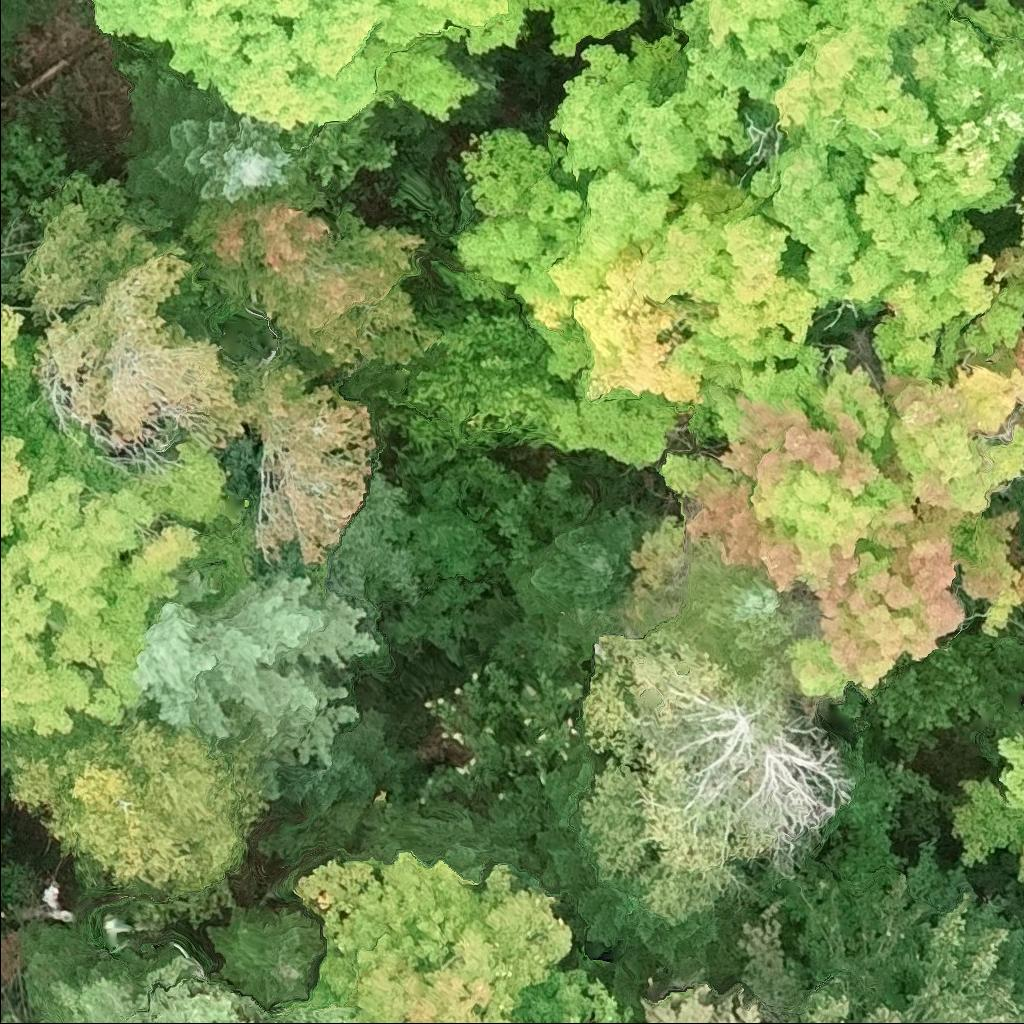crown: (433, 31, 819, 475), (622, 340, 1023, 701), (0, 296, 259, 741), (10, 177, 249, 456), (580, 629, 794, 921), (513, 738, 762, 987), (130, 559, 381, 805), (277, 854, 636, 1023), (0, 701, 273, 906), (86, 0, 483, 134), (769, 819, 1023, 1023), (186, 192, 431, 376), (118, 69, 336, 226), (236, 359, 380, 562), (675, 692, 855, 851), (634, 900, 861, 1023), (508, 502, 659, 667), (53, 956, 366, 1023), (647, 542, 803, 671), (281, 707, 418, 832), (200, 905, 323, 1016), (413, 0, 645, 57), (945, 727, 1023, 883), (1016, 187, 1023, 245)
